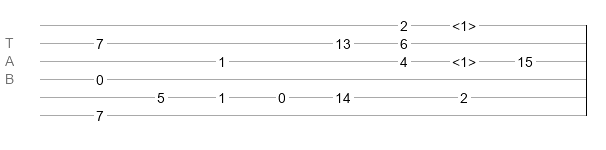0: (96, 72, 104, 82), (278, 90, 286, 100)
1: (218, 54, 226, 64), (218, 90, 226, 100)
13: (335, 36, 351, 46)
14: (335, 90, 351, 100)
15: (517, 54, 533, 64)
2: (400, 18, 408, 28), (460, 90, 468, 100)
4: (400, 54, 408, 64)
5: (157, 90, 165, 100)
6: (400, 36, 408, 46)
7: (96, 36, 104, 46), (96, 108, 104, 118)
harmonic: (452, 18, 476, 28), (452, 54, 476, 64)
